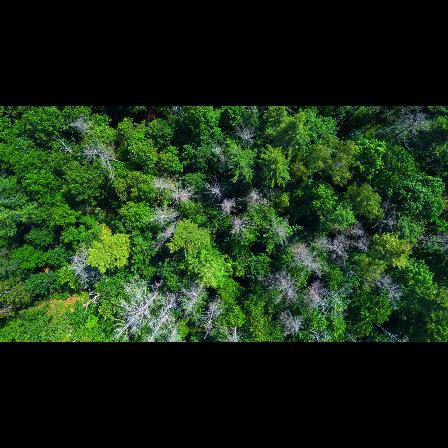Dead: (302, 281, 346, 314), (80, 139, 125, 171), (107, 301, 148, 336), (385, 112, 428, 145), (373, 271, 408, 310), (70, 242, 101, 286), (255, 271, 299, 300), (290, 240, 324, 277), (320, 236, 368, 261), (358, 107, 406, 132), (148, 225, 182, 253), (364, 208, 401, 232), (138, 284, 165, 316), (182, 285, 209, 316), (277, 307, 304, 337), (56, 115, 93, 135), (154, 290, 179, 319), (374, 320, 406, 342), (141, 205, 182, 222), (324, 221, 365, 238), (78, 290, 106, 312), (149, 313, 170, 342), (170, 306, 188, 338), (243, 187, 270, 208), (217, 197, 244, 218), (205, 298, 221, 333), (236, 126, 263, 145), (203, 177, 224, 200), (149, 176, 178, 192), (231, 215, 248, 238), (172, 189, 198, 204)
